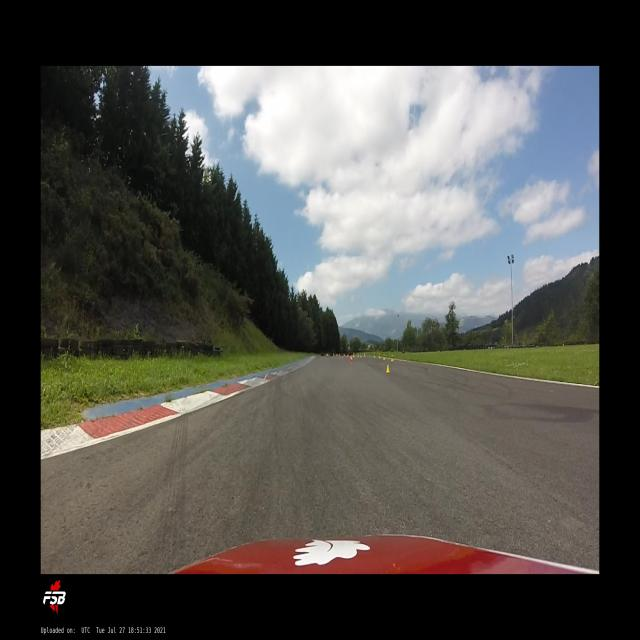orange_cone: (350, 356, 353, 361)
yellow_cone: (386, 363, 390, 373), (391, 354, 394, 361), (383, 353, 385, 360), (374, 352, 376, 358), (379, 353, 380, 359)
